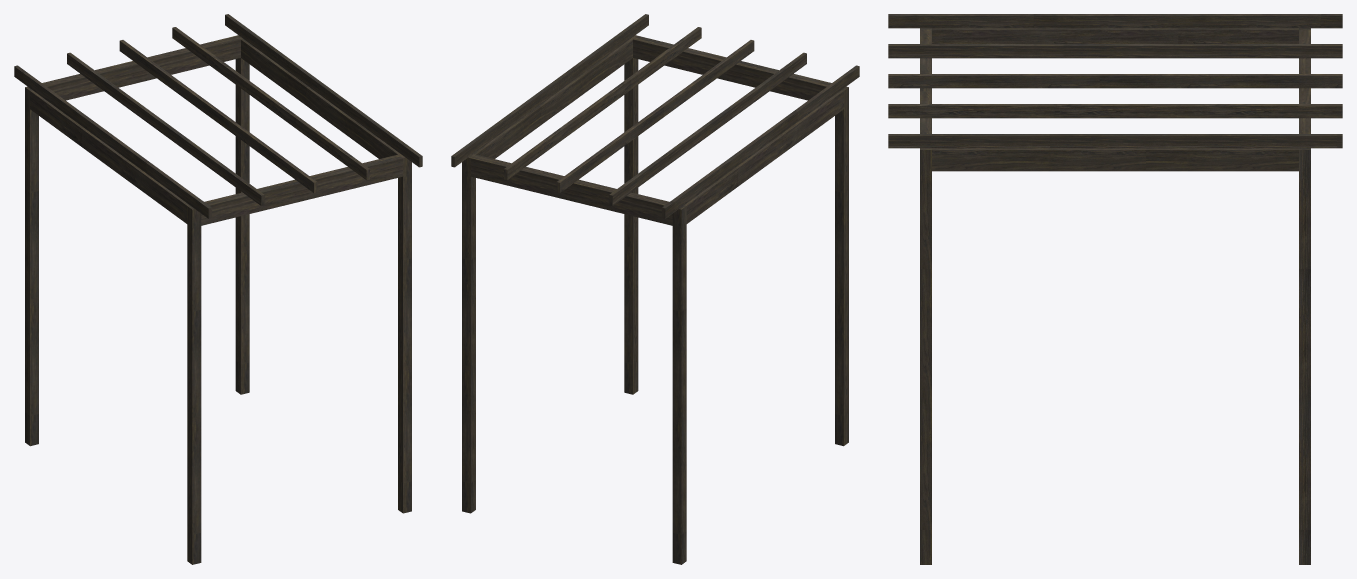
File: pp-dokuritu_1k-8s_blackebony.fbx
3 renders of one model, left to right at view 1: azimuth 30°, elevation 25°; view 2: azimuth 150°, elevation 25°; view 3: azimuth 270°, elevation 25°, orthographic. The views are drawn at different scales.
Parts seen in each view (by area): view 1: pp-dokuritu_1k-8s_blackebony; view 2: pp-dokuritu_1k-8s_blackebony; view 3: pp-dokuritu_1k-8s_blackebony.
Boxes of the visible parts, box(x1,y1,x2,y2) form: pp-dokuritu_1k-8s_blackebony: box(14, 14, 422, 564); pp-dokuritu_1k-8s_blackebony: box(451, 14, 859, 564); pp-dokuritu_1k-8s_blackebony: box(888, 14, 1342, 564).
Size of the model in its own units: 187 by 298 by 287.
1 material, 1 textured.
